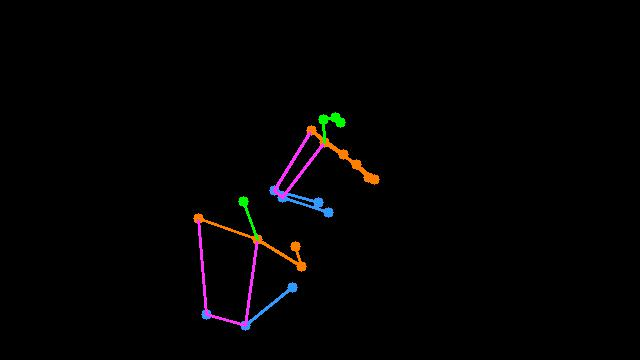normal: (265, 100, 383, 227)
